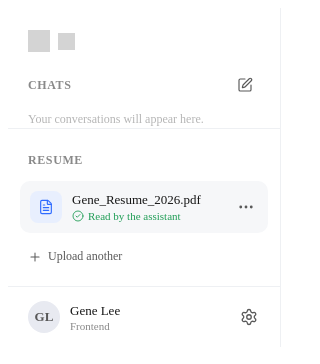
Scenario: ResumeSidebar › closes the menu on Escape and returns focus to its button
Step 1. Click the button named "Actions for Gene_Resume_2026.pdf" → coordinates (246, 207), box [232,193,260,221]
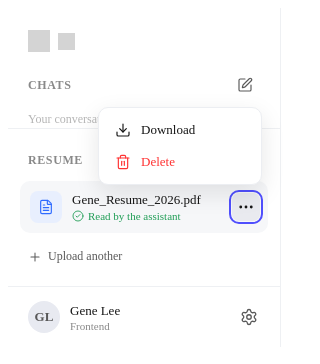
Step 2. Press Escape
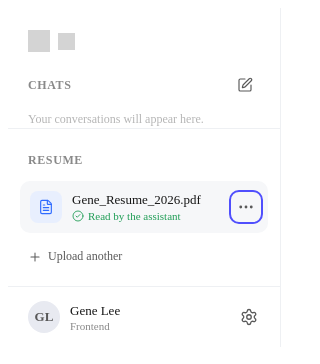
Now the menu is gone
